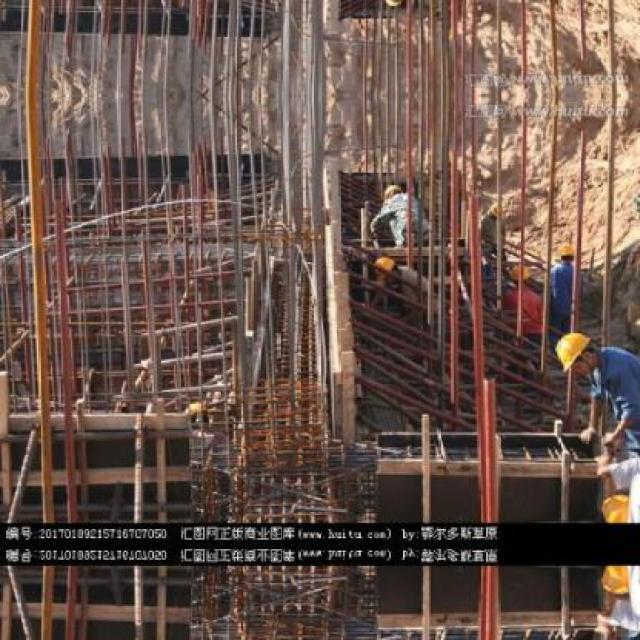helmet: (552, 330, 598, 378), (373, 254, 402, 282), (506, 258, 528, 283), (384, 181, 404, 206), (556, 244, 576, 266), (383, 0, 405, 11)
